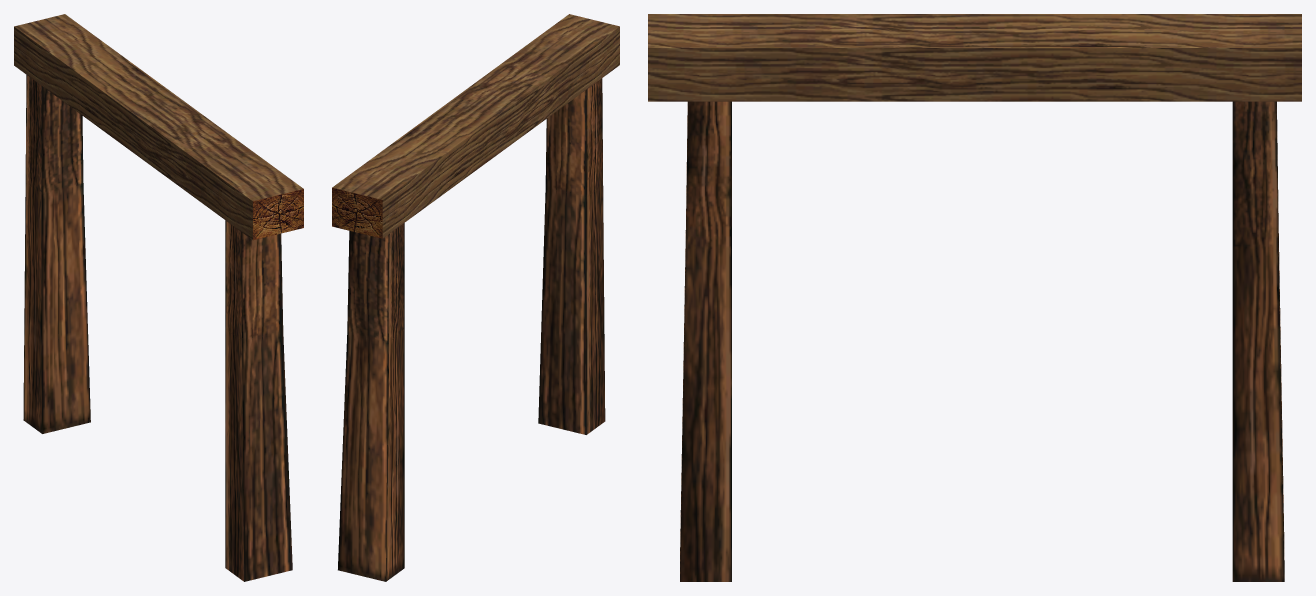
The model's file is LAKETOWN_WAREHOUSE2_PS_WH2_DOORFRAME7377__GX.fbx.
3 views of the same model, side by side, from view 1: azimuth 30°, elevation 25°; view 2: azimuth 150°, elevation 25°; view 3: azimuth 270°, elevation 25° (orthographic). The views are drawn at different scales.
Parts seen in each view (by area): view 1: LAKETOWN_WAREHOUSE2_PS_WH2_DOORFRAME7377__GX; view 2: LAKETOWN_WAREHOUSE2_PS_WH2_DOORFRAME7377__GX; view 3: LAKETOWN_WAREHOUSE2_PS_WH2_DOORFRAME7377__GX.
Boxes of the visible parts, x1,y1,x2,y2 form: LAKETOWN_WAREHOUSE2_PS_WH2_DOORFRAME7377__GX: [14, 14, 303, 581]; LAKETOWN_WAREHOUSE2_PS_WH2_DOORFRAME7377__GX: [332, 14, 619, 581]; LAKETOWN_WAREHOUSE2_PS_WH2_DOORFRAME7377__GX: [648, 14, 1301, 581].
Bounding box in the file's own units: 4078 × 29503 × 32757.
3 materials, 3 textured.
